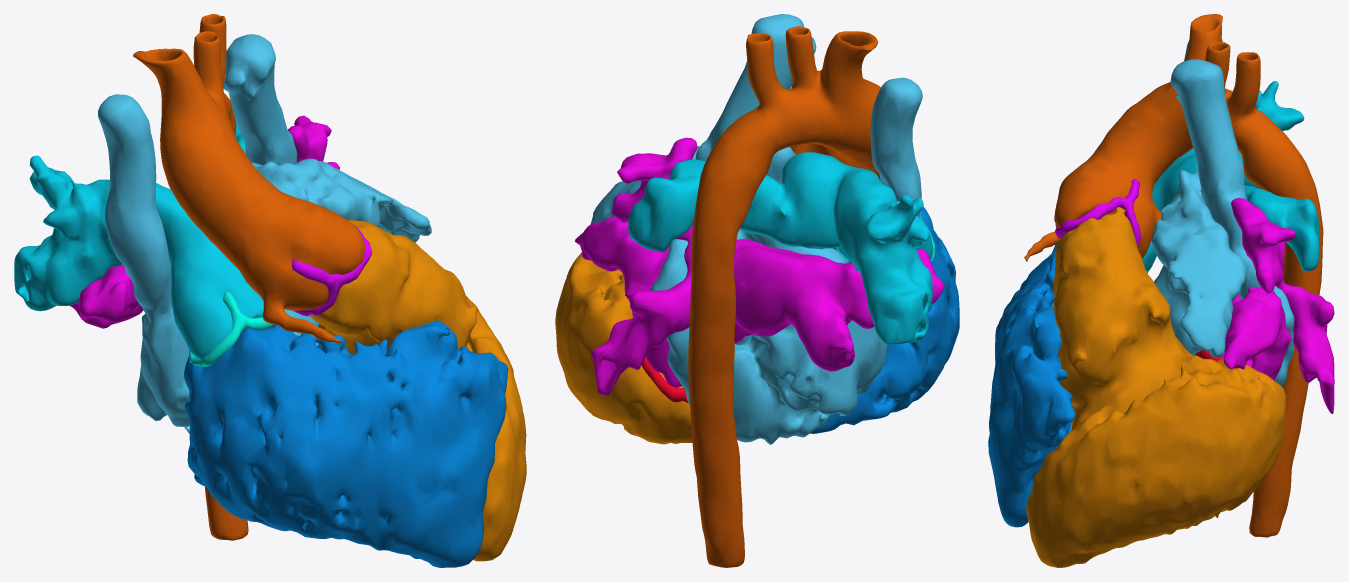
The model's file is {S,D,L} DORV, SubAoVSD postop-models.gltf.
The picture shows the model from 3 angles, left to right: view 1: azimuth 30°, elevation 25°; view 2: azimuth 150°, elevation 25°; view 3: azimuth 270°, elevation 25°; orthographic projection. The views are drawn at different scales.
Visible parts, largest first — view 1: right ventricle, aorta, right atrium, pulmonary artery, left ventricle, left atrium, aov, pv; view 2: aorta, left atrium, right atrium, pulmonary artery, left ventricle, right ventricle, mv; view 3: left ventricle, aorta, right atrium, right ventricle, left atrium, pulmonary artery, aov.
Part boxes in pixels (x1=…): right ventricle: x1=183, y1=320, x2=508, y2=567; aorta: x1=133, y1=14, x2=364, y2=540; right atrium: x1=98, y1=34, x2=431, y2=433; pulmonary artery: x1=14, y1=121, x2=263, y2=360; left ventricle: x1=309, y1=220, x2=526, y2=561; left atrium: x1=69, y1=115, x2=419, y2=328; aov: x1=292, y1=224, x2=372, y2=316; pv: x1=189, y1=291, x2=273, y2=366; aorta: x1=688, y1=26, x2=880, y2=567; left atrium: x1=575, y1=137, x2=944, y2=395; right atrium: x1=590, y1=14, x2=922, y2=444; pulmonary artery: x1=628, y1=152, x2=933, y2=344; left ventricle: x1=555, y1=252, x2=692, y2=444; right ventricle: x1=810, y1=207, x2=959, y2=433; mv: x1=641, y1=357, x2=688, y2=402; left ventricle: x1=1026, y1=207, x2=1286, y2=567; aorta: x1=1024, y1=14, x2=1323, y2=537; right atrium: x1=1151, y1=38, x2=1294, y2=386; right ventricle: x1=988, y1=244, x2=1075, y2=527; left atrium: x1=1219, y1=198, x2=1334, y2=413; pulmonary artery: x1=1142, y1=81, x2=1319, y2=271; aov: x1=1055, y1=179, x2=1140, y2=247.
Size of the model in its own units: 98.3 by 121 by 81.45.
